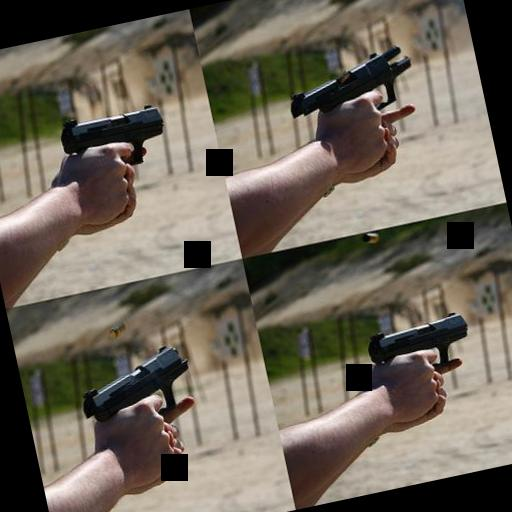Handgun: (276, 34, 418, 129), (72, 338, 192, 427), (56, 100, 170, 180), (360, 304, 472, 378)
